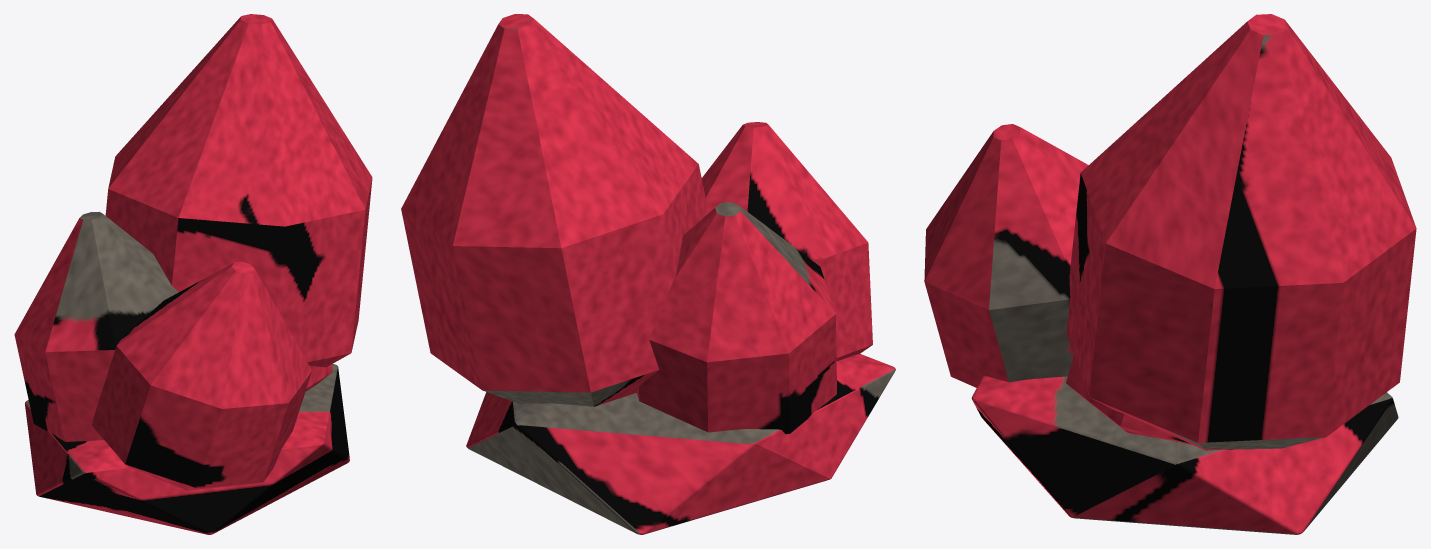
File: mineral_diamond.fbx
The picture shows the model from 3 angles, left to right: view 1: azimuth 30°, elevation 25°; view 2: azimuth 150°, elevation 25°; view 3: azimuth 270°, elevation 25°; orthographic projection. The views are drawn at different scales.
Parts seen in each view (by area): view 1: SDT_Mineral_Diamond; view 2: SDT_Mineral_Diamond; view 3: SDT_Mineral_Diamond.
Boxes of the visible parts, x1,y1,x2,y2 form: SDT_Mineral_Diamond: [14, 14, 372, 534]; SDT_Mineral_Diamond: [401, 14, 895, 534]; SDT_Mineral_Diamond: [924, 14, 1416, 534].
Bounding box in the file's own units: 46 × 55 × 44.
